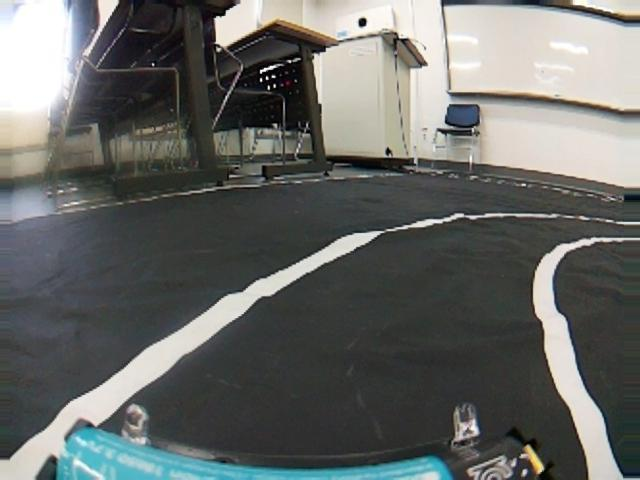right: (0, 208, 640, 480)
